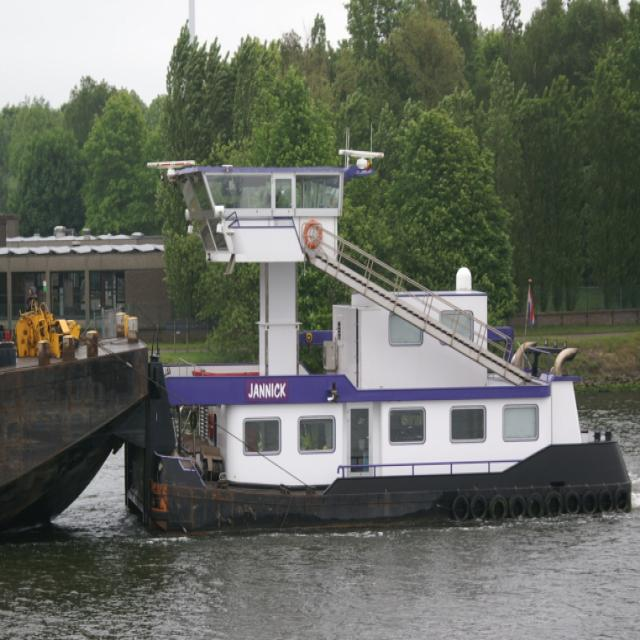tugboat: (139, 133, 636, 532)
